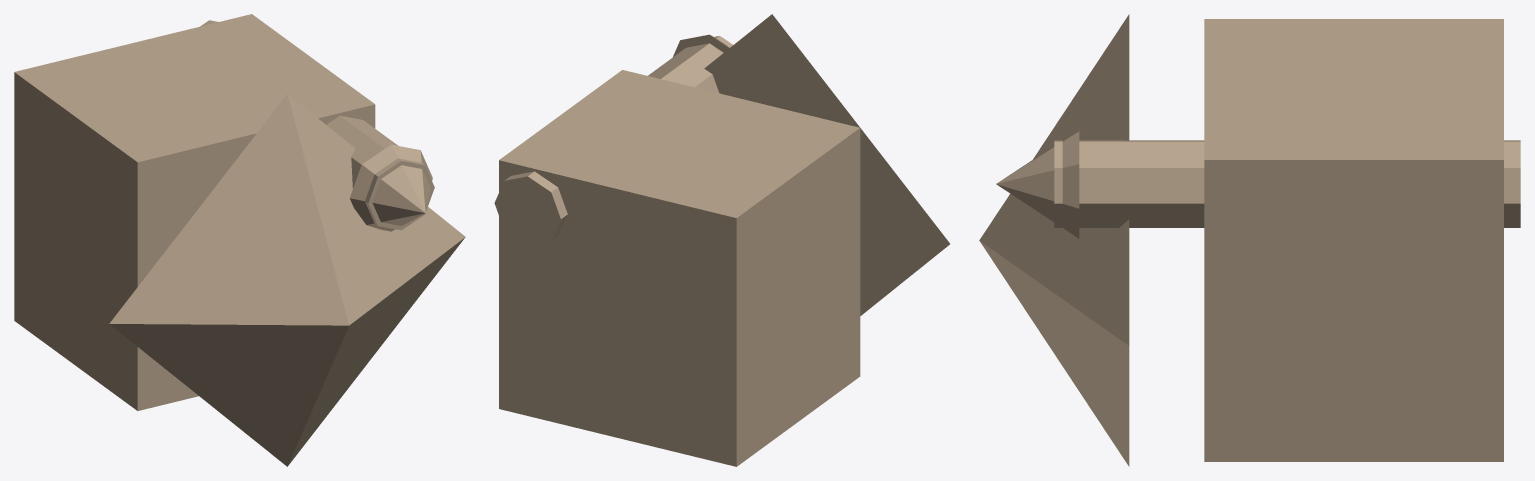
3 views of the same model, side by side, from view 1: azimuth 30°, elevation 25°; view 2: azimuth 150°, elevation 25°; view 3: azimuth 270°, elevation 25° (orthographic). The views are drawn at different scales.
Visible parts, largest first — view 1: geometry_0; view 2: geometry_0; view 3: geometry_0.
Boxes of the visible parts, x1=… form: geometry_0: x1=14, y1=14, x2=465, y2=466; geometry_0: x1=494, y1=14, x2=949, y2=466; geometry_0: x1=979, y1=14, x2=1520, y2=466.
Size of the model in its own units: 3 by 3 by 3.25.
